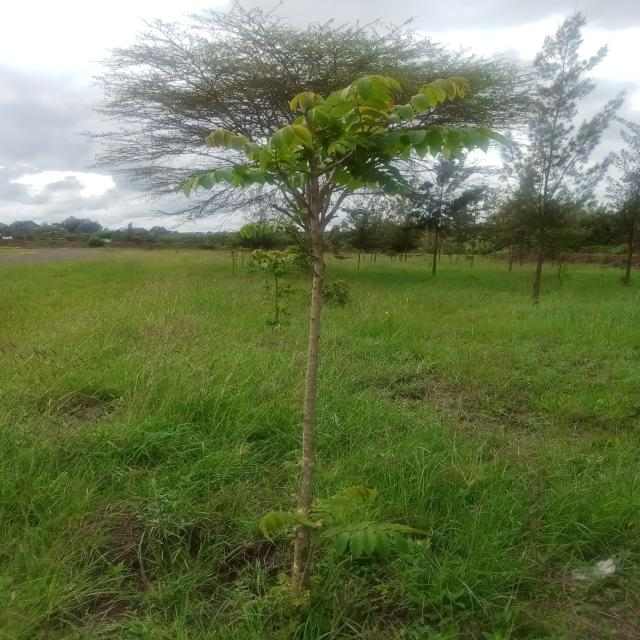Polyscias Kikuyensis: (186, 76, 510, 601)
